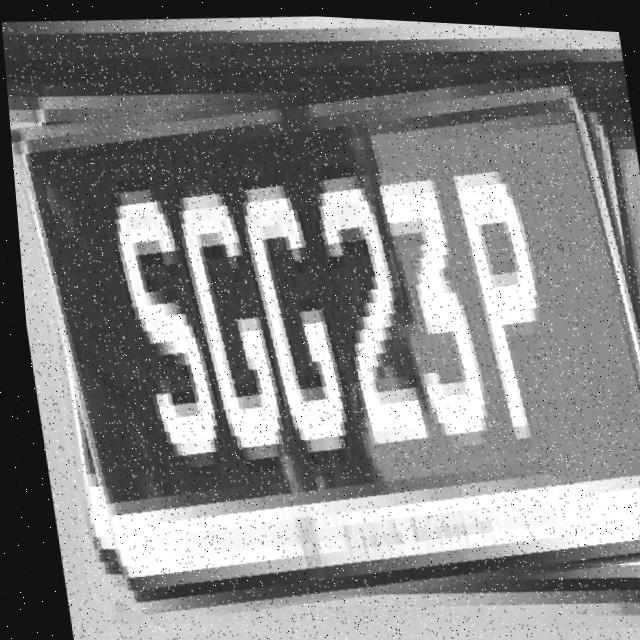LicensePlate: (8, 39, 640, 634)
